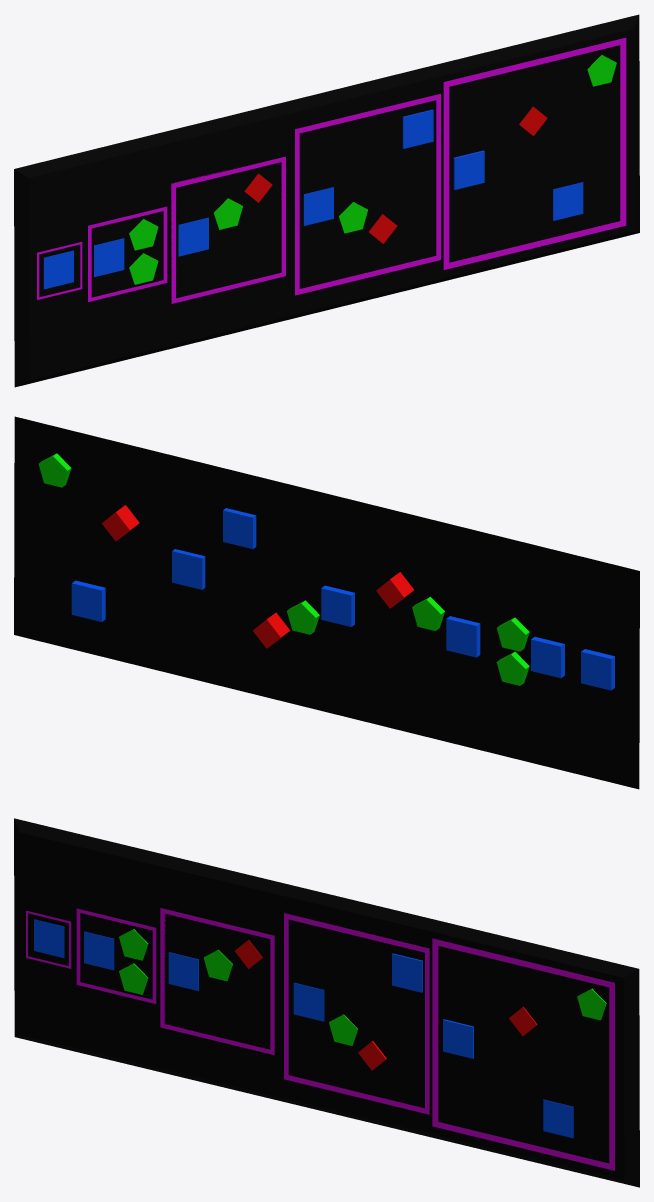
File: New Growin Patern Proj Stage 2 Scene 2.7.fbx
The picture shows the model from 3 angles, top to bottom: view 1: azimuth 30°, elevation 25°; view 2: azimuth 150°, elevation 25°; view 3: azimuth 330°, elevation 25°; orthographic projection.
Visible parts, largest first — view 1: Plane, Cube.004, Cylinder.001; view 2: Plane, Cube.004, Cylinder.001, Cube.006; view 3: Plane, Cube.004, Cylinder.001.
Boxes of the visible parts, x1,y1,x2,y2 form: Plane: (14,14,639,387); Cube.004: (178,217,208,256); Cylinder.001: (213,198,242,229); Plane: (14,416,639,789); Cube.004: (446,616,480,657); Cylinder.001: (412,597,444,630); Cube.006: (376,572,413,608); Plane: (14,818,639,1187); Cube.004: (168,952,198,990); Cylinder.001: (203,949,232,981).
Bounding box in the file's own units: 2763 × 930 × 123.
